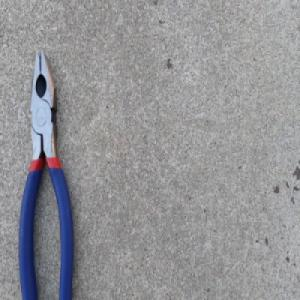Pliers: (18, 51, 77, 300)
